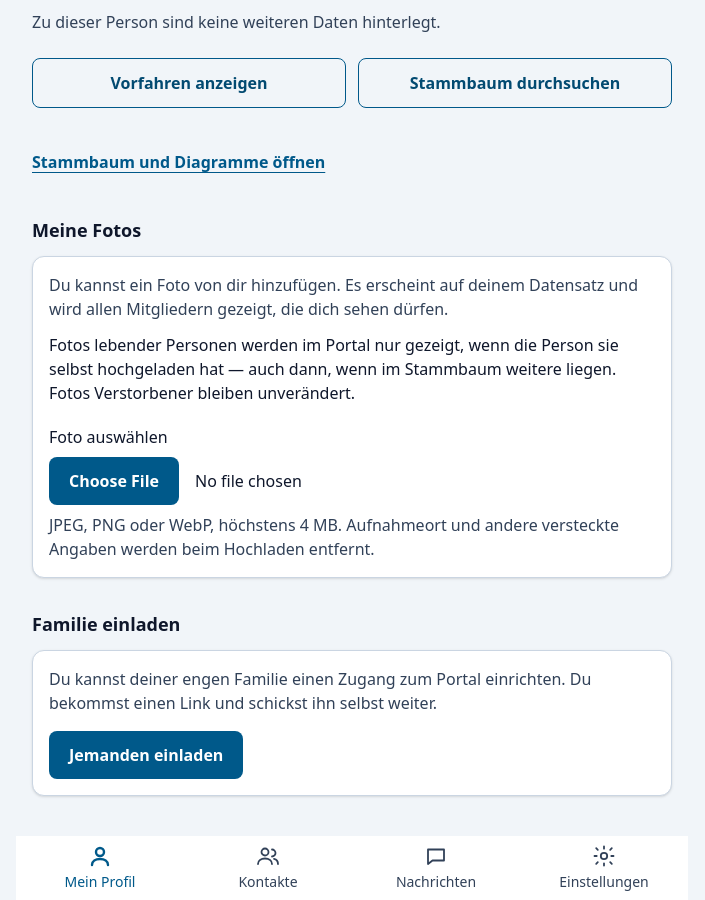
App › drops back to the login screen when a later request returns 401
The image size is (705, 900).
(page scrolled)
Click the link "Kontakte": point(268, 868) 238,844 -> 298,891
(page scrolled)
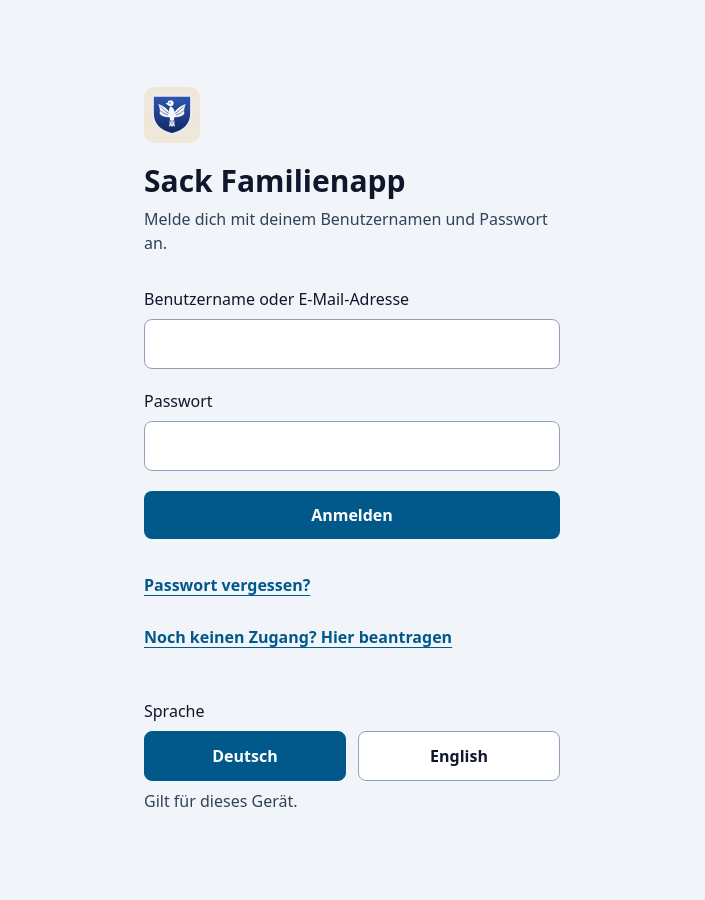
Expected: the button "Anmelden" is shown, 144,491 -> 560,539
